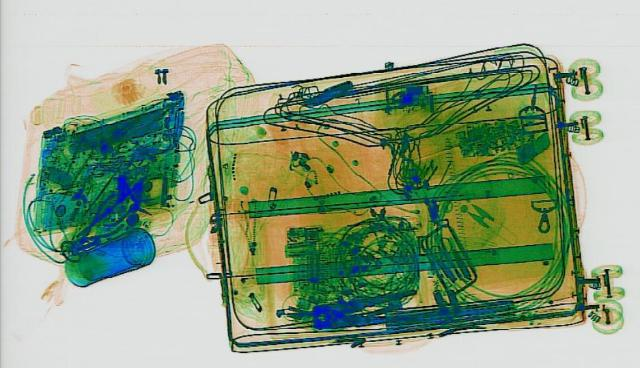Pliers: (301, 286, 431, 331)
